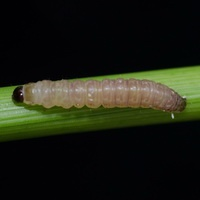insect: (12, 78, 185, 111)
